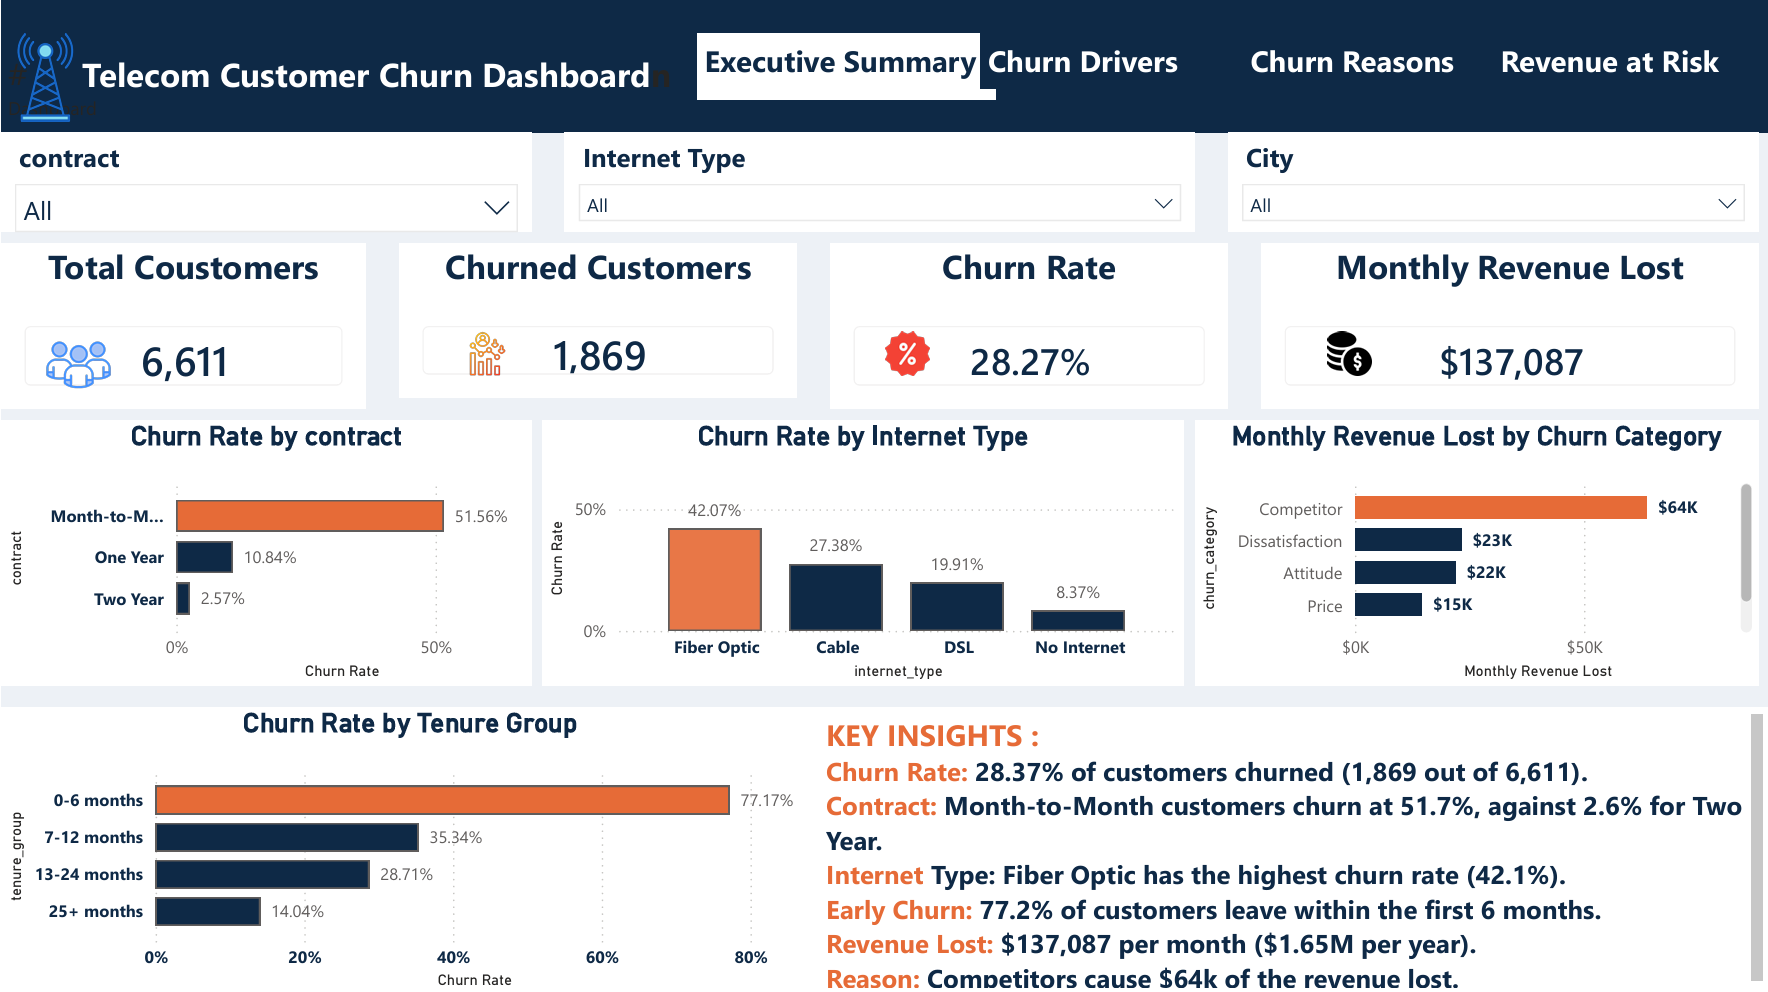

The dashboard page shown, as its layout file describes it:
{"tool":"powerbi","page":{"name":"Executive Summary","canvas":[1280,720],"ordinal":0},"visuals":[{"type":"shape","box":[0,0,1280,96],"z":0},{"type":"textbox","box":[0,32,496,64],"z":1000},{"type":"textbox","box":[504,24,216,48],"z":2000},{"type":"textbox","box":[709.3,24,200,40],"z":3000},{"type":"textbox","box":[898.7,24,200,40],"z":4000},{"type":"textbox","box":[1080,24,200,40],"z":5000},{"type":"slicer","title":"Contract","fields":{"Values":["Customers.contract"]},"box":[0,96,384,72],"z":6000},{"type":"slicer","fields":{"Values":["Customers.internet_type"]},"box":[408,96,456,72],"z":7000},{"type":"slicer","fields":{"Values":["Customers.city"]},"box":[888,96,384,72],"z":8000},{"type":"cardVisual","title":"Total Coustomers","fields":{"Data":["Customers.Total Customers Text"]},"box":[0,176,264,120],"z":9000},{"type":"cardVisual","title":"Churned Customers","fields":{"Data":["Customers.Churned Customers Text"]},"box":[288,176,288,112],"z":10000},{"type":"cardVisual","title":"Churn Rate","fields":{"Data":["Customers.Churn Rate"]},"box":[600,176,288,120],"z":11000},{"type":"cardVisual","title":"Monthly Revenue Lost","fields":{"Data":["Customers.Monthly Revenue Lost Text"]},"box":[912,176,360,120],"z":12000},{"type":"clusteredBarChart","fields":{"Category":["Customers.contract"],"Y":["Customers.Churn Rate"]},"box":[0,304,384,192],"z":13000},{"type":"clusteredColumnChart","title":"Churn Rate by Internet Type","fields":{"Category":["Customers.internet_type"],"Y":["Customers.Churn Rate"]},"box":[392,304,464,192],"z":14000},{"type":"clusteredBarChart","title":"Monthly Revenue Lost by Churn Category","fields":{"Category":["Customers.churn_category"],"Y":["Customers.Monthly Revenue Lost"]},"box":[864,304,408,192],"z":15000},{"type":"clusteredBarChart","title":"Churn Rate by Tenure Group","fields":{"Category":["Customers.tenure_group"],"Y":["Customers.Churn Rate"]},"box":[0,512,592,208],"z":16000},{"type":"image","box":[0,24,64,64],"z":17000},{"type":"image","box":[16,240,80,48],"z":18000},{"type":"image","box":[288,240,128,32],"z":19000},{"type":"image","box":[608,240,96,32],"z":20000},{"type":"image","box":[944,240,64,32],"z":21000},{"type":"textbox","box":[592,512,688,208],"z":22000}]}

Visuals, with their boxes in screenshot pixels (x1, y1, x2, y2), scaled from the page's 1280x720 canvas onto the 1768x992 screenshot:
shape: region(0, 0, 1767, 132)
textbox: region(0, 44, 685, 132)
textbox: region(696, 33, 995, 99)
textbox: region(980, 33, 1256, 88)
textbox: region(1241, 33, 1518, 88)
textbox: region(1492, 33, 1767, 88)
"Contract" slicer: region(0, 132, 530, 231)
slicer - Customers.internet_type: region(564, 132, 1193, 231)
slicer - Customers.city: region(1227, 132, 1757, 231)
"Total Coustomers" cardVisual: region(0, 242, 365, 408)
"Churned Customers" cardVisual: region(398, 242, 796, 397)
"Churn Rate" cardVisual: region(829, 242, 1227, 408)
"Monthly Revenue Lost" cardVisual: region(1260, 242, 1757, 408)
clusteredBarChart - Customers.contract x Customers.Churn Rate: region(0, 419, 530, 683)
"Churn Rate by Internet Type" clusteredColumnChart: region(541, 419, 1182, 683)
"Monthly Revenue Lost by Churn Category" clusteredBarChart: region(1193, 419, 1757, 683)
"Churn Rate by Tenure Group" clusteredBarChart: region(0, 705, 818, 991)
image: region(0, 33, 88, 121)
image: region(22, 331, 133, 397)
image: region(398, 331, 575, 375)
image: region(840, 331, 972, 375)
image: region(1304, 331, 1392, 375)
textbox: region(818, 705, 1767, 991)
